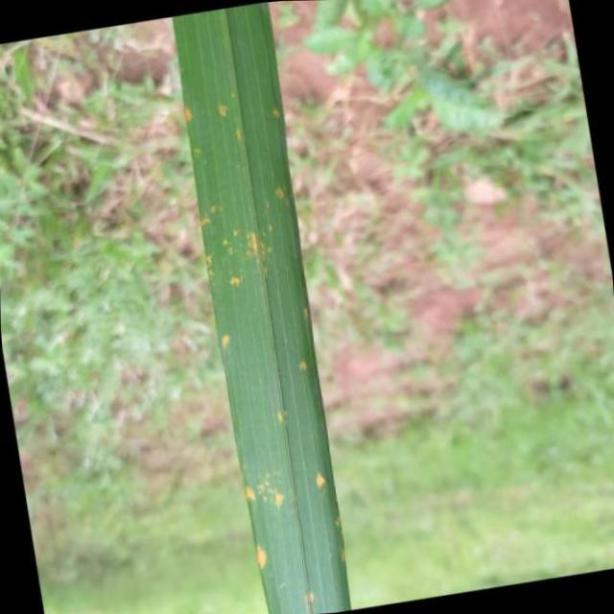Kalium: (170, 5, 350, 614)
